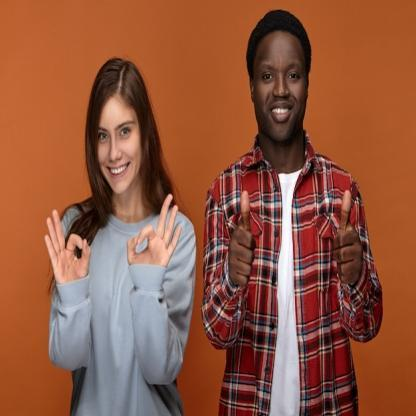ok: (124, 192, 183, 280), (41, 207, 94, 290)
thumb_up: (327, 184, 365, 289), (224, 186, 259, 289)
